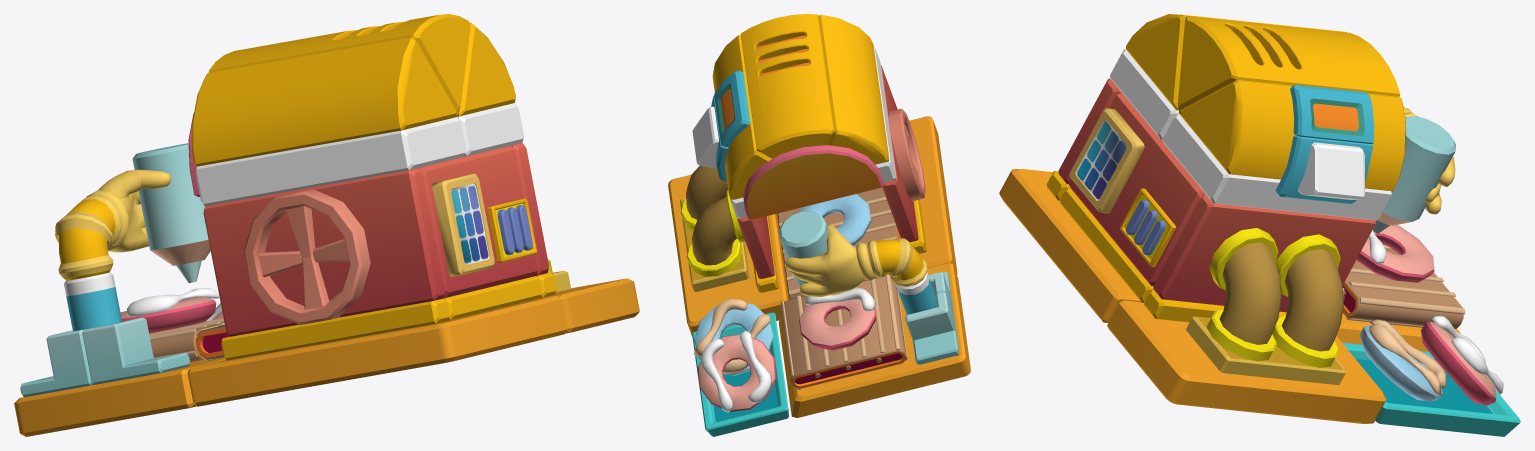
3 renders of one model, left to right at view 1: azimuth 30°, elevation 25°; view 2: azimuth 150°, elevation 25°; view 3: azimuth 270°, elevation 25°, orthographic. The views are drawn at different scales.
Parts seen in each view (by area): view 1: Board_AssemblyLine_18, Board_AssemblyLine_14, Board_AssemblyLine_28, Board_AssemblyLine_15, Board_AssemblyLine_31, Board_AssemblyLine_2, Board_AssemblyLine_29, Board_AssemblyLine_17, Board_AssemblyLine_11, Board_AssemblyLine_21, Board_AssemblyLine_30, Board_AssemblyLine_24 (+12 smaller); view 2: Board_AssemblyLine_17, Board_AssemblyLine_3, Board_AssemblyLine_18, Board_AssemblyLine_0, Board_AssemblyLine_29, Board_AssemblyLine_2, Board_AssemblyLine_27, Board_AssemblyLine_23, Board_AssemblyLine_28, Board_AssemblyLine_5, Board_AssemblyLine_8, Board_AssemblyLine_33 (+18 smaller); view 3: Board_AssemblyLine_27, Board_AssemblyLine_17, Board_AssemblyLine_19, Board_AssemblyLine_13, Board_AssemblyLine_32, Board_AssemblyLine_28, Board_AssemblyLine_33, Board_AssemblyLine_11, Board_AssemblyLine_16, Board_AssemblyLine_5, Board_AssemblyLine_3, Board_AssemblyLine_2 (+14 smaller).
Boxes of the visible parts, box(x1,y1,x2,y2) form: Board_AssemblyLine_18: box(192, 37, 456, 166); Board_AssemblyLine_14: box(203, 168, 444, 336); Board_AssemblyLine_28: box(187, 296, 567, 406); Board_AssemblyLine_15: box(195, 117, 465, 206); Board_AssemblyLine_31: box(244, 189, 370, 324); Board_AssemblyLine_2: box(87, 143, 210, 282); Board_AssemblyLine_29: box(14, 357, 225, 436); Board_AssemblyLine_17: box(208, 14, 470, 114); Board_AssemblyLine_11: box(418, 146, 537, 297); Board_AssemblyLine_21: box(221, 298, 449, 360); Board_AssemblyLine_30: box(432, 173, 494, 276); Board_AssemblyLine_24: box(82, 317, 189, 384); Board_AssemblyLine_17: box(741, 14, 834, 158); Board_AssemblyLine_3: box(780, 274, 907, 389); Board_AssemblyLine_18: box(818, 14, 889, 164); Board_AssemblyLine_0: box(743, 145, 883, 219); Board_AssemblyLine_29: box(779, 263, 970, 417); Board_AssemblyLine_2: box(779, 211, 875, 296); Board_AssemblyLine_27: box(668, 174, 788, 337); Board_AssemblyLine_23: box(698, 330, 776, 412); Board_AssemblyLine_28: box(776, 116, 957, 299); Board_AssemblyLine_5: box(692, 312, 788, 436); Board_AssemblyLine_8: box(799, 288, 876, 350); Board_AssemblyLine_33: box(686, 190, 744, 276); Board_AssemblyLine_27: box(1107, 300, 1386, 423); Board_AssemblyLine_17: box(1177, 15, 1400, 110); Board_AssemblyLine_19: box(1179, 79, 1405, 191); Board_AssemblyLine_13: box(1153, 193, 1375, 312); Board_AssemblyLine_32: box(1206, 228, 1281, 361); Board_AssemblyLine_28: box(999, 169, 1141, 322); Board_AssemblyLine_33: box(1272, 234, 1343, 367); Board_AssemblyLine_11: box(1069, 92, 1204, 285); Board_AssemblyLine_16: box(1162, 113, 1391, 220); Board_AssemblyLine_5: box(1342, 342, 1520, 436); Board_AssemblyLine_3: box(1342, 244, 1465, 328); Board_AssemblyLine_2: box(1372, 112, 1455, 233).
Bounding box in the file's own units: 11.12 × 9.74 × 10.65.
